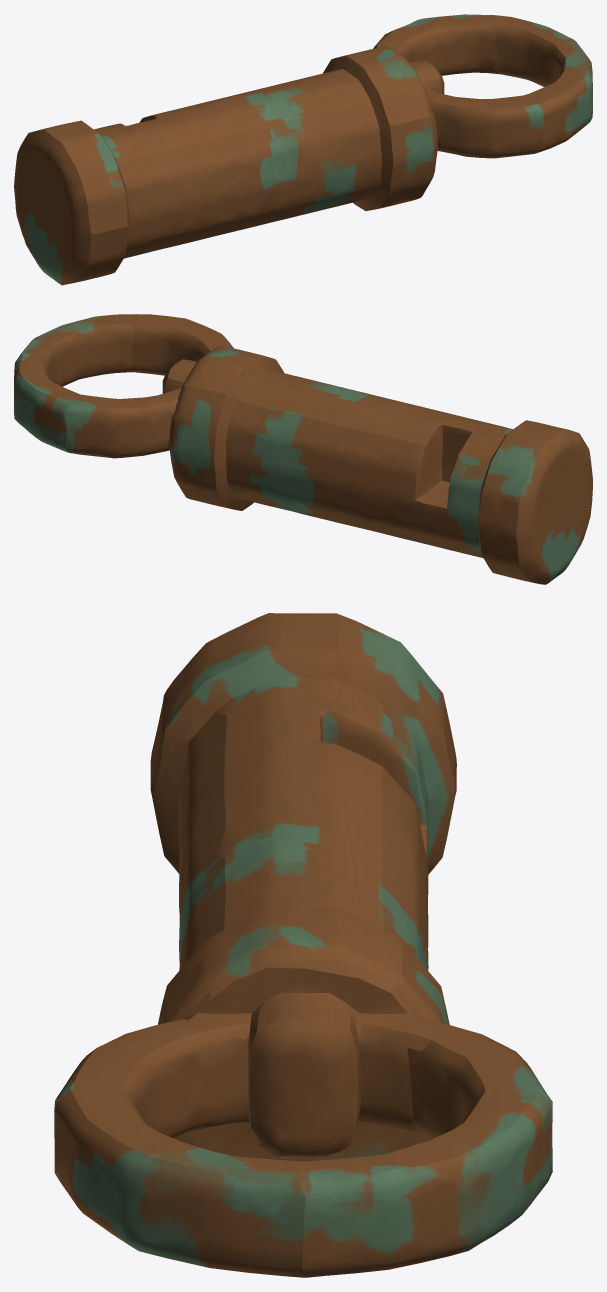
File: PROP_03.glb
The picture shows the model from 3 angles, top to bottom: view 1: azimuth 30°, elevation 25°; view 2: azimuth 150°, elevation 25°; view 3: azimuth 270°, elevation 25°; orthographic projection. The views are drawn at different scales.
Visible parts, largest first — view 1: world; view 2: world; view 3: world.
Boxes of the visible parts, x1,y1,x2,y2 form: world: [14, 14, 592, 285]; world: [14, 314, 592, 584]; world: [54, 613, 552, 1277].
Size of the model in its own units: 1 by 0.258 by 0.4066.
1 material, 1 textured.
